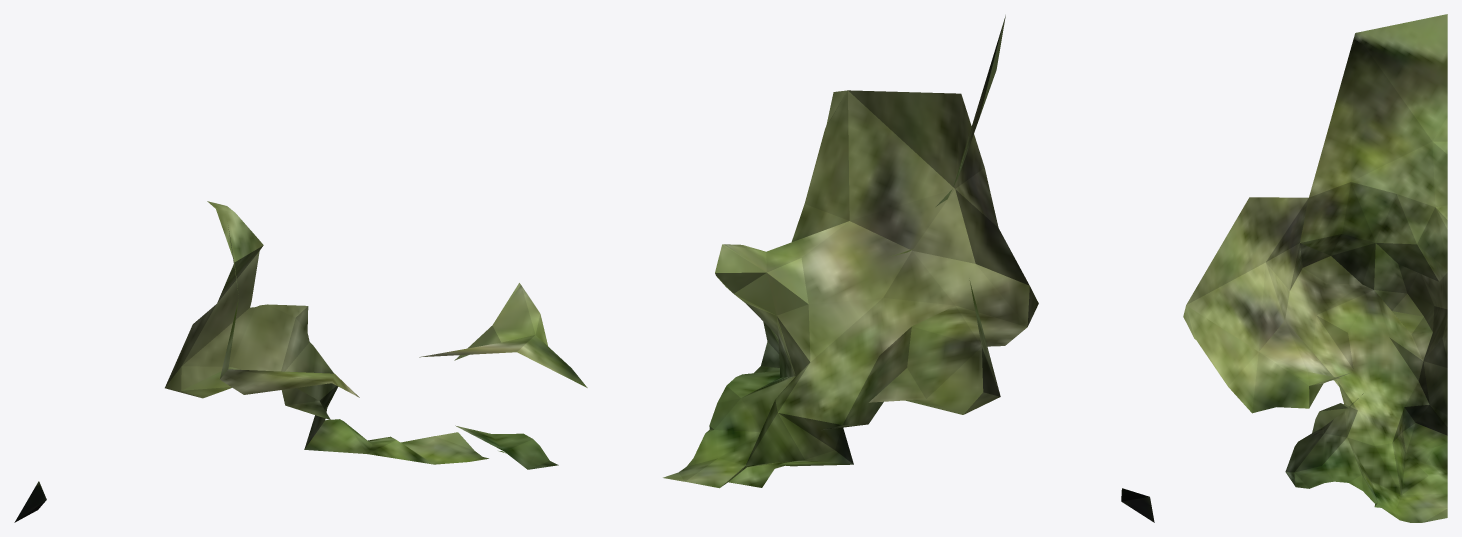
The picture shows the model from 3 angles, left to right: view 1: azimuth 30°, elevation 25°; view 2: azimuth 150°, elevation 25°; view 3: azimuth 270°, elevation 25°; orthographic projection. The views are drawn at different scales.
Size of the model in its own units: 18.86 by 19.32 by 12.09.
Materials: 1 (1 with a texture image).
